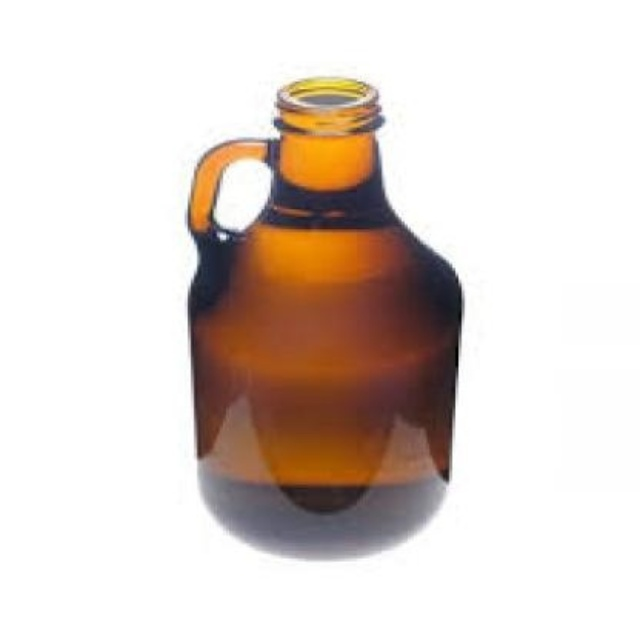trash: (188, 77, 460, 555)
